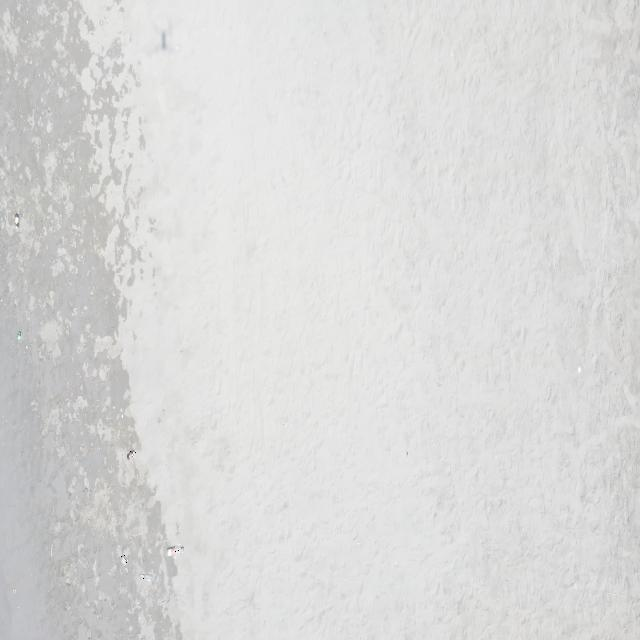glass: (166, 543, 184, 558), (138, 573, 154, 583), (126, 448, 136, 462), (14, 212, 20, 231), (120, 555, 128, 566), (16, 331, 23, 341)
